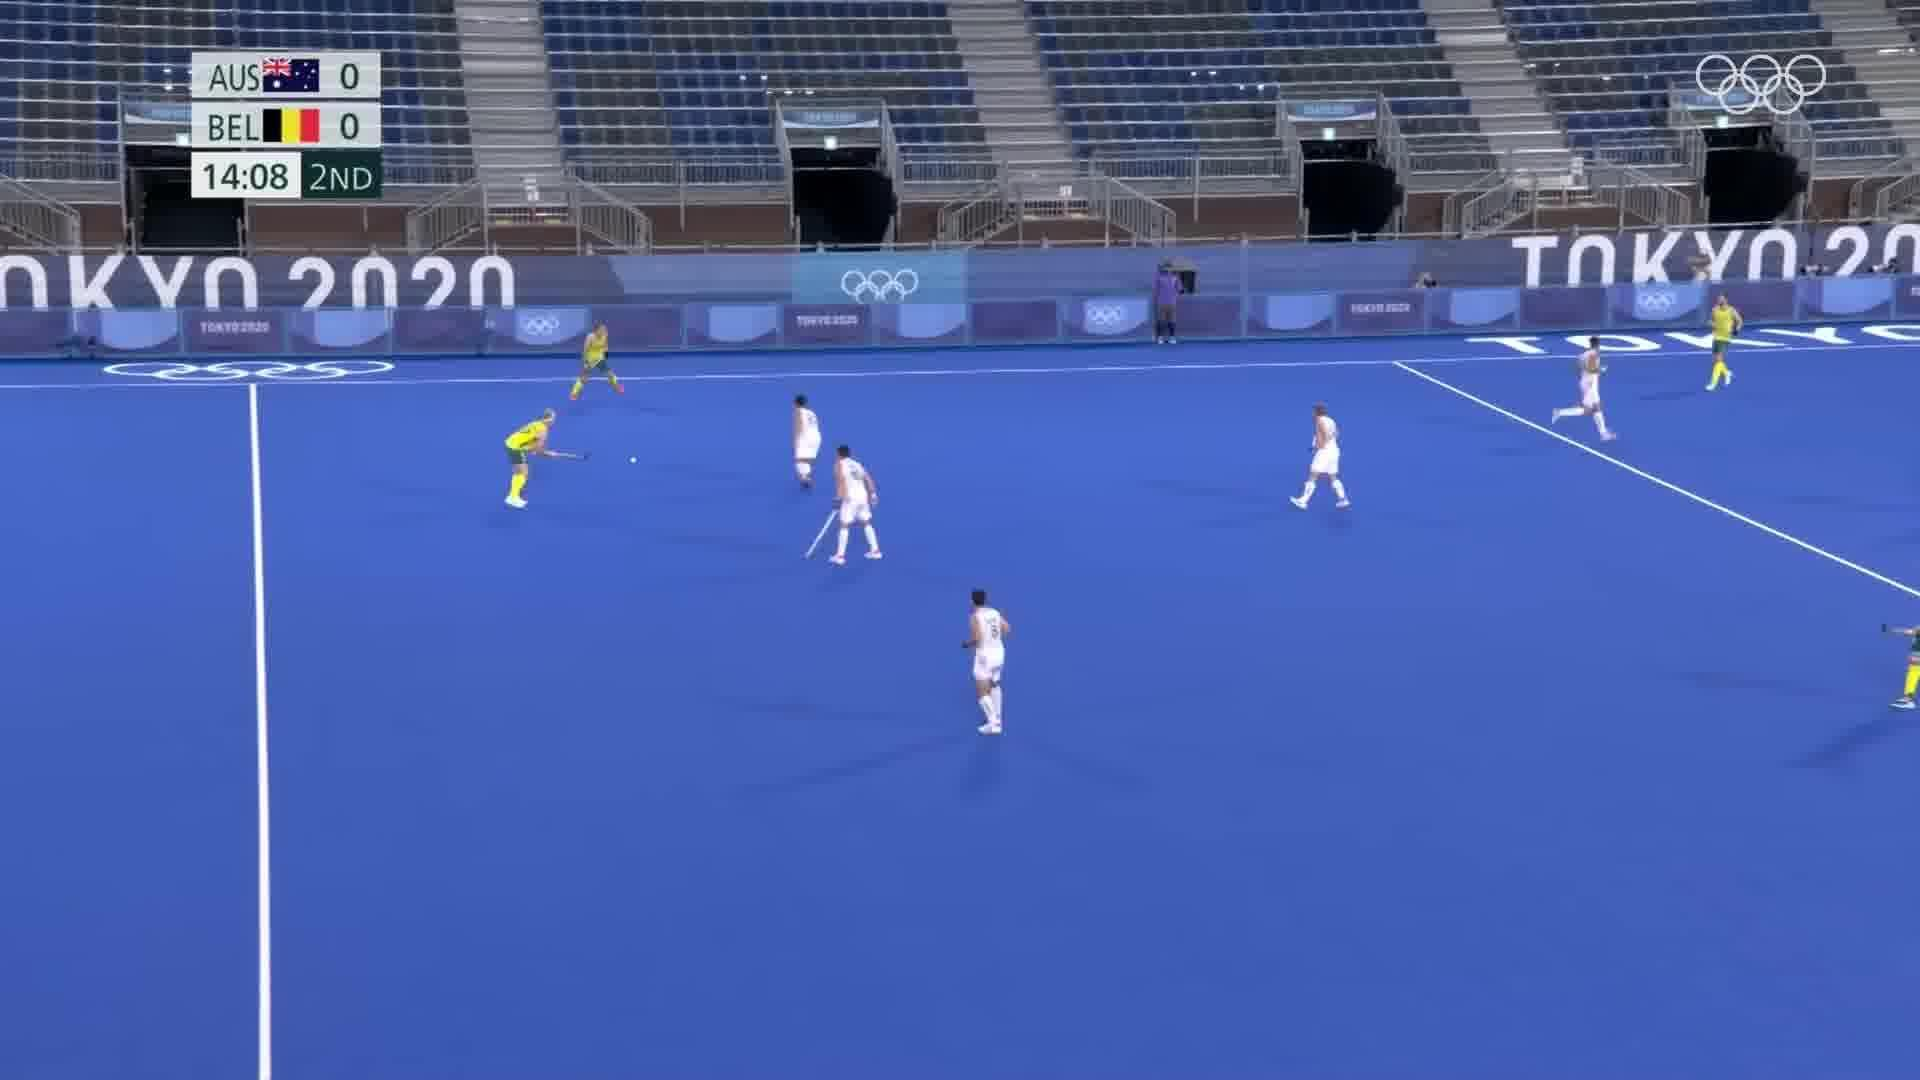ball: (625, 453, 641, 470)
